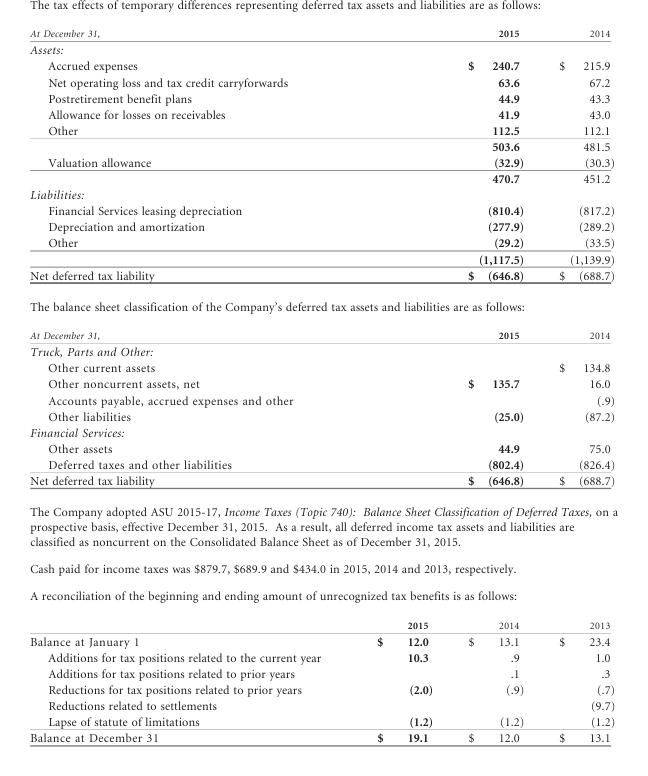table: (29, 28, 617, 744)
table column: (29, 28, 348, 744), (348, 28, 449, 744), (449, 28, 540, 744), (540, 28, 617, 744)
table column header: (29, 28, 617, 41)
table projected row header: (29, 496, 617, 611), (29, 291, 617, 321), (29, 41, 617, 58), (29, 343, 617, 360), (29, 187, 617, 203), (29, 424, 617, 440)
table row: (29, 496, 617, 611), (29, 291, 617, 321), (29, 267, 617, 291), (29, 472, 617, 496), (29, 321, 617, 343), (29, 611, 617, 633), (29, 41, 617, 58), (29, 170, 617, 187), (29, 343, 617, 360), (29, 665, 617, 682), (29, 58, 617, 74), (29, 74, 617, 90), (29, 90, 617, 106), (29, 106, 617, 122), (29, 122, 617, 138), (29, 138, 617, 154), (29, 154, 617, 170), (29, 187, 617, 203), (29, 203, 617, 219), (29, 219, 617, 235), (29, 235, 617, 251), (29, 251, 617, 267), (29, 360, 617, 376), (29, 376, 617, 392), (29, 392, 617, 408), (29, 408, 617, 424), (29, 424, 617, 440), (29, 440, 617, 456), (29, 456, 617, 472), (29, 633, 617, 649), (29, 649, 617, 665), (29, 682, 617, 698), (29, 698, 617, 714), (29, 714, 617, 730), (29, 730, 617, 744), (29, 28, 617, 41)
